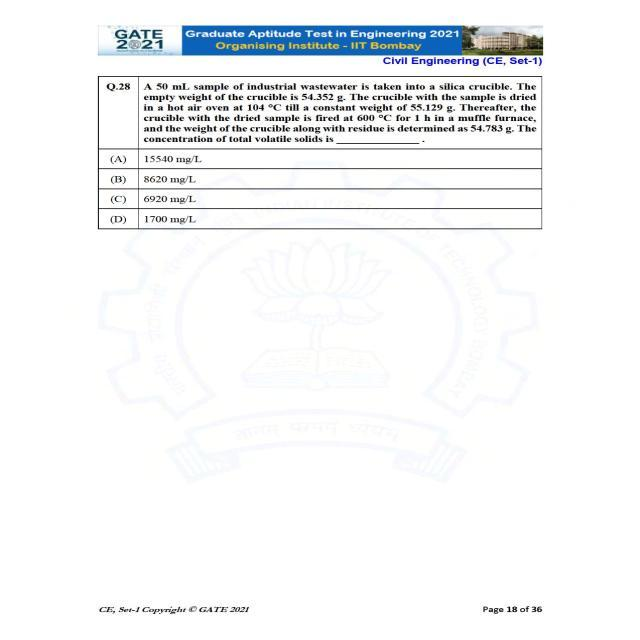Answer_Block: (95, 148, 543, 228)
Question_Answer_Block: (97, 75, 543, 228)
Question_Block: (96, 76, 544, 228)
Question_Paper_Area: (95, 75, 543, 229)
